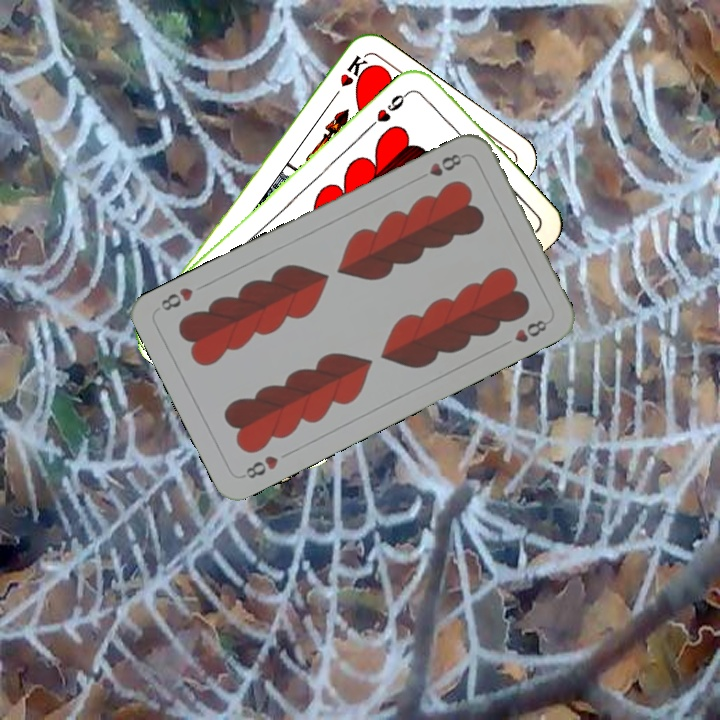H8: (237, 451, 281, 482), (425, 149, 464, 180)
H9: (366, 85, 415, 130)
HK: (327, 51, 371, 104)
